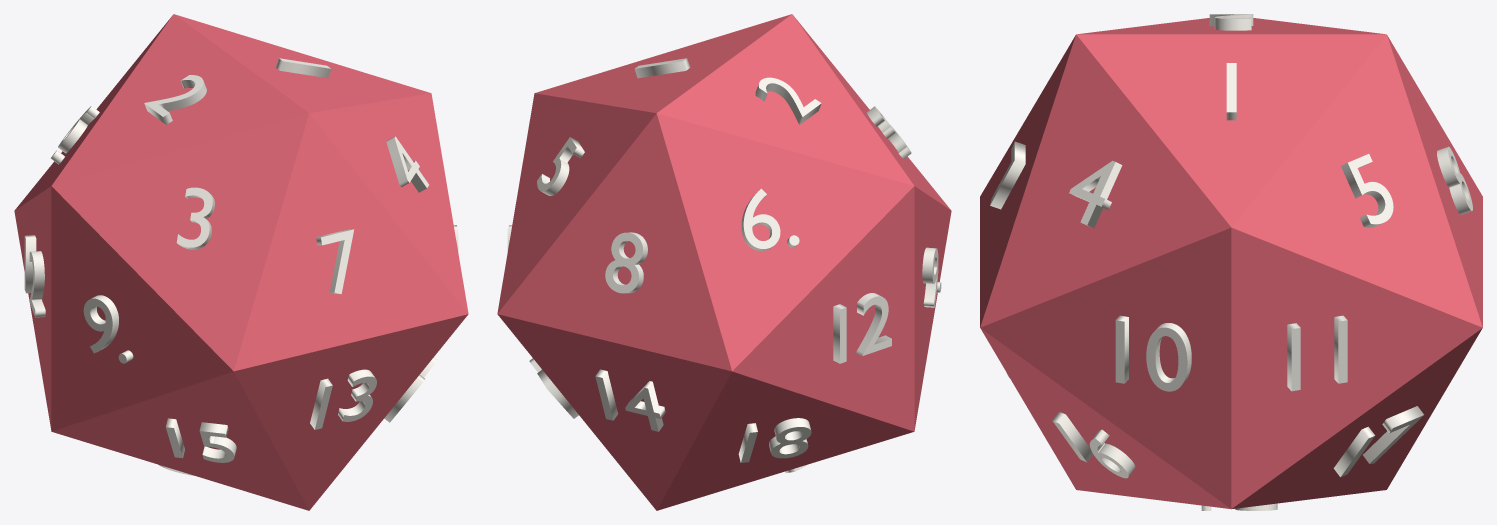
The model's file is Dice_D20.glb.
3 renders of one model, left to right at view 1: azimuth 30°, elevation 25°; view 2: azimuth 150°, elevation 25°; view 3: azimuth 270°, elevation 25°, orthographic. The views are drawn at different scales.
Parts seen in each view (by area): view 1: Dice_D20; view 2: Dice_D20; view 3: Dice_D20.
Boxes of the visible parts, x1=… form: Dice_D20: x1=14, y1=14, x2=468, y2=510; Dice_D20: x1=497, y1=14, x2=951, y2=510; Dice_D20: x1=980, y1=14, x2=1482, y2=510.
Size of the model in its own units: 0.8507 by 0.8507 by 0.8507.
